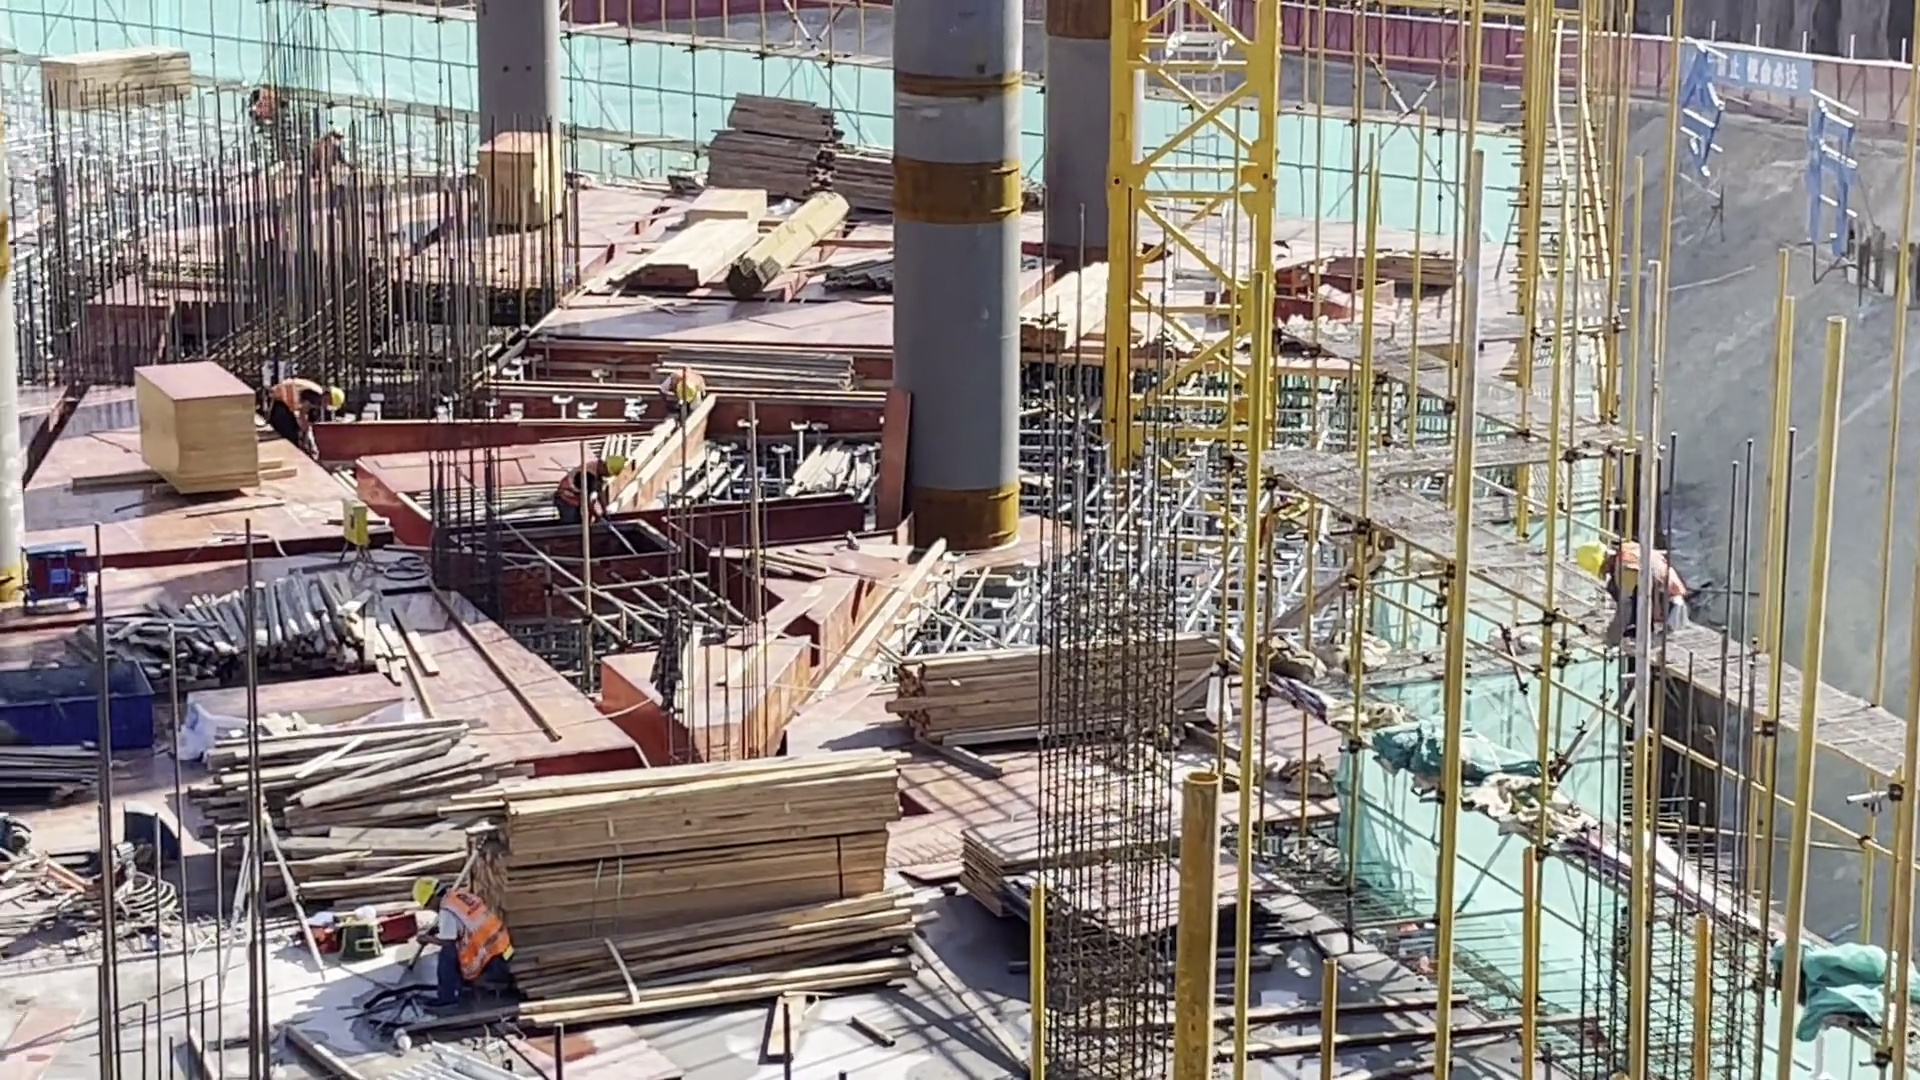board: (91, 316, 276, 521), (46, 38, 224, 128), (482, 115, 554, 206)
ebox: (332, 487, 380, 570)
fence: (1294, 10, 1920, 141)
helmet: (1574, 539, 1608, 583), (410, 867, 439, 910), (673, 379, 704, 407), (606, 448, 631, 478), (331, 383, 346, 415)
hopper: (1, 640, 150, 736)
person: (406, 878, 532, 1015), (1569, 537, 1701, 660), (266, 372, 348, 450), (555, 452, 627, 528), (663, 366, 720, 425)
slogan: (1685, 32, 1818, 104)
vest: (444, 891, 520, 974), (1620, 540, 1691, 619), (268, 373, 321, 423), (553, 457, 600, 511)
wood: (448, 707, 952, 1051), (867, 622, 1252, 773), (711, 75, 945, 314)
